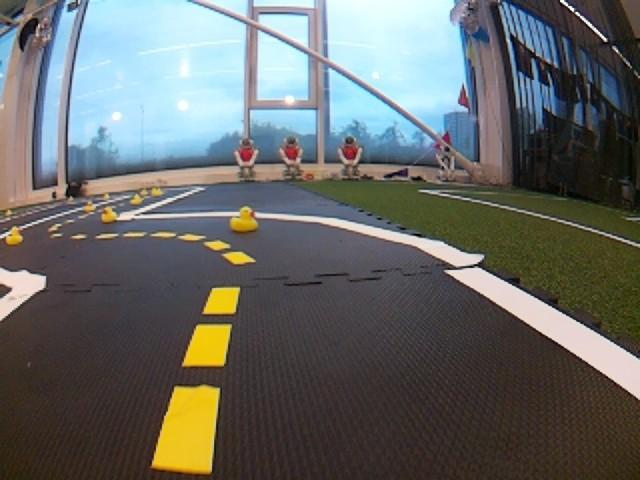Duckies: (229, 206, 258, 232), (4, 227, 23, 244), (101, 207, 117, 222), (130, 194, 143, 204), (84, 202, 94, 211), (152, 188, 162, 196), (140, 189, 148, 195), (103, 193, 110, 198), (5, 210, 12, 215), (68, 195, 74, 200)
